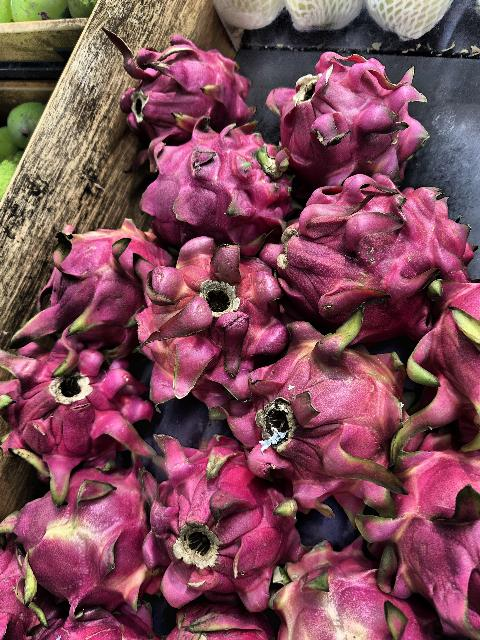buah-naga-belum-matang: (234, 320, 404, 502), (0, 452, 160, 610), (28, 208, 170, 352), (268, 538, 434, 640)
buah-naga-matang: (265, 166, 475, 330), (132, 427, 310, 597), (122, 229, 286, 407), (0, 332, 156, 478), (266, 43, 424, 184), (366, 435, 480, 623), (92, 20, 255, 136), (130, 122, 286, 238), (404, 266, 480, 440)
